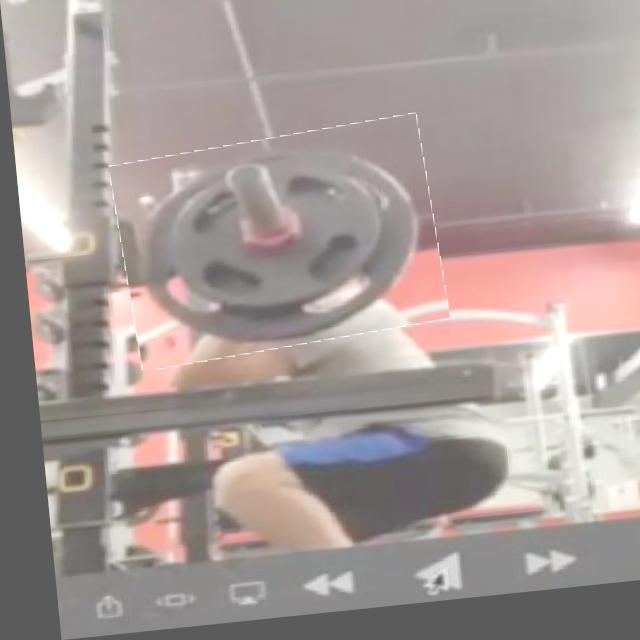barbell: (108, 127, 441, 371)
